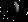person: (13, 1, 22, 16)
